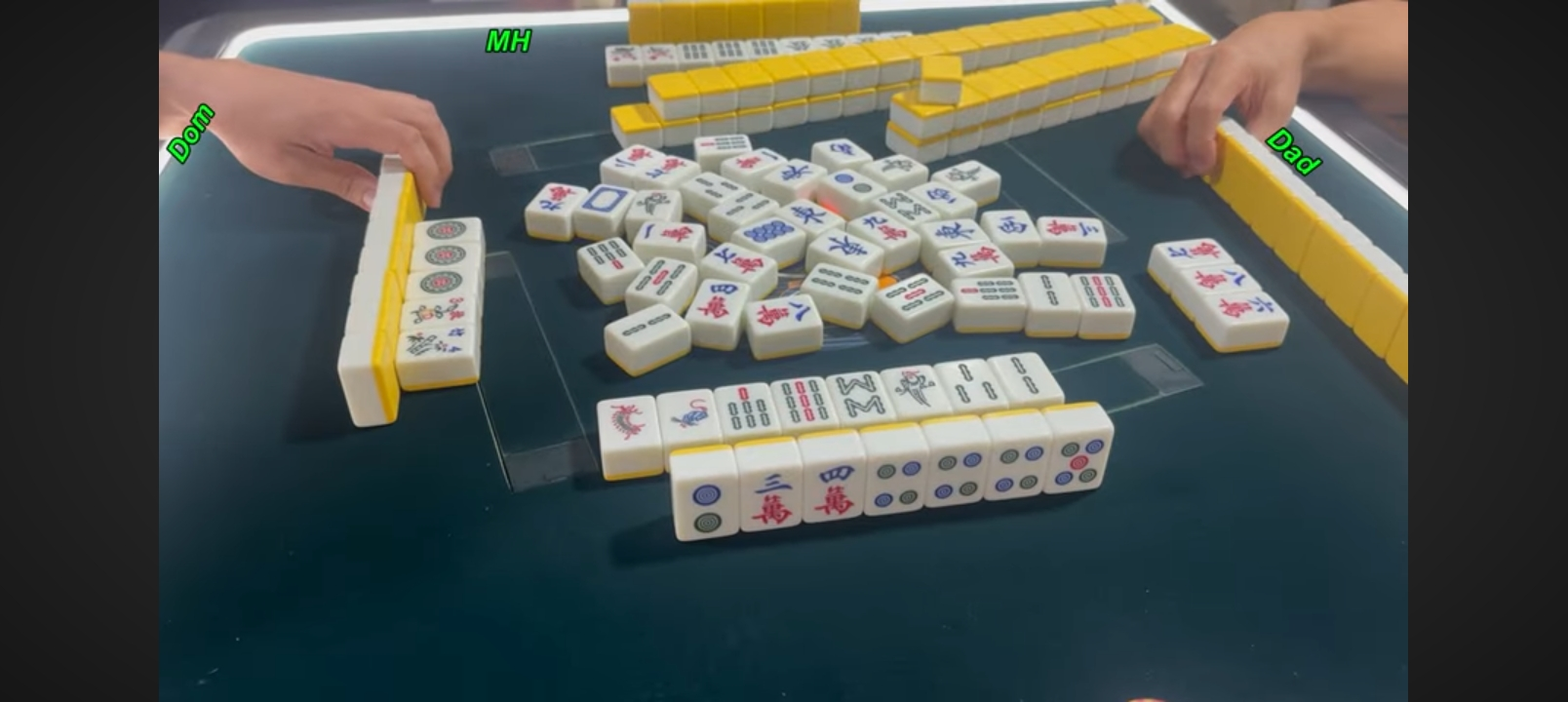TILE: (737, 468, 802, 533), (678, 472, 738, 541), (1051, 433, 1111, 493), (989, 440, 1052, 497), (865, 456, 925, 515), (804, 463, 865, 517), (599, 395, 661, 448), (658, 389, 721, 440), (716, 383, 779, 434), (928, 449, 986, 503), (940, 360, 1003, 409), (829, 371, 890, 421), (999, 354, 1065, 399), (775, 377, 832, 425), (885, 367, 942, 412)
